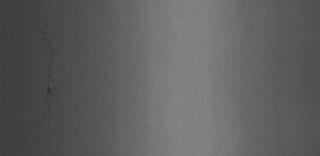water spot: (38, 31, 62, 114)
